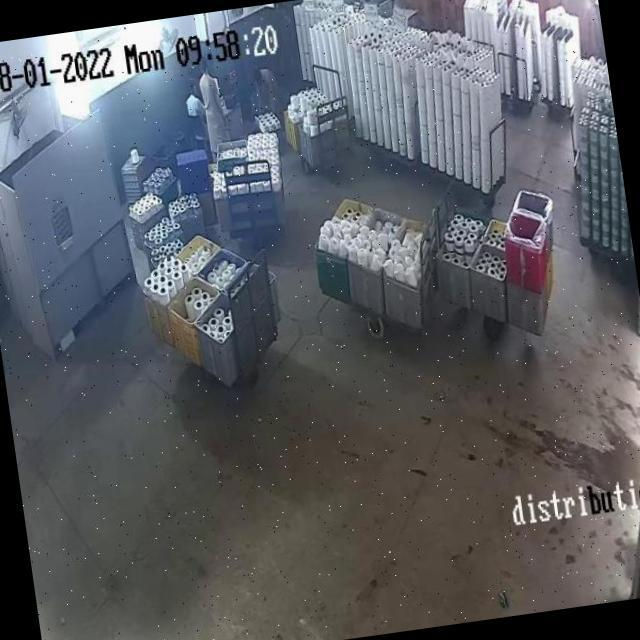person: (194, 54, 232, 162), (253, 58, 284, 130), (181, 80, 205, 116)
